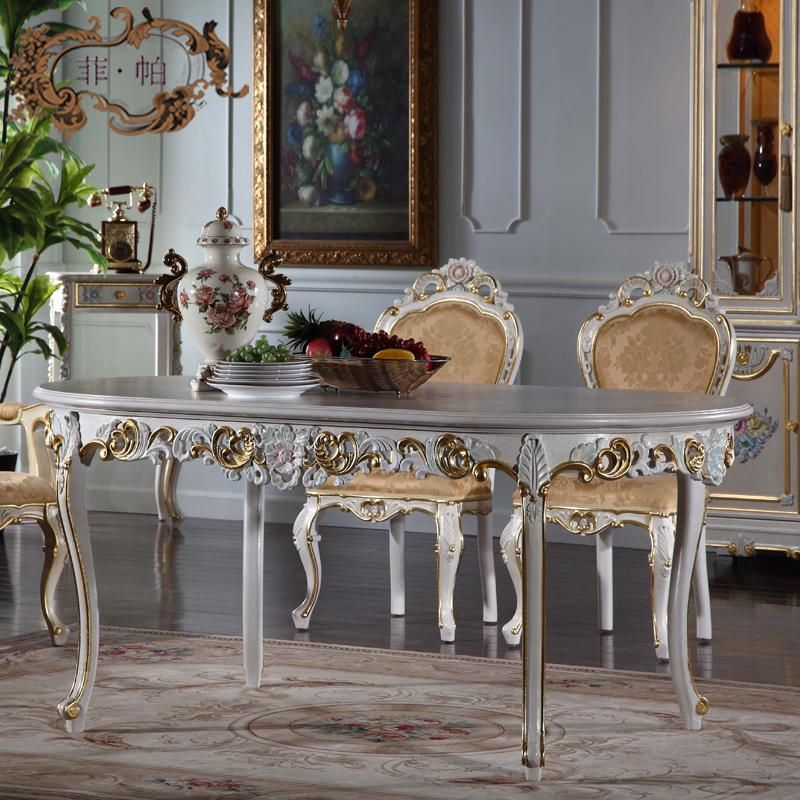Carving Table: (34, 361, 731, 779)
